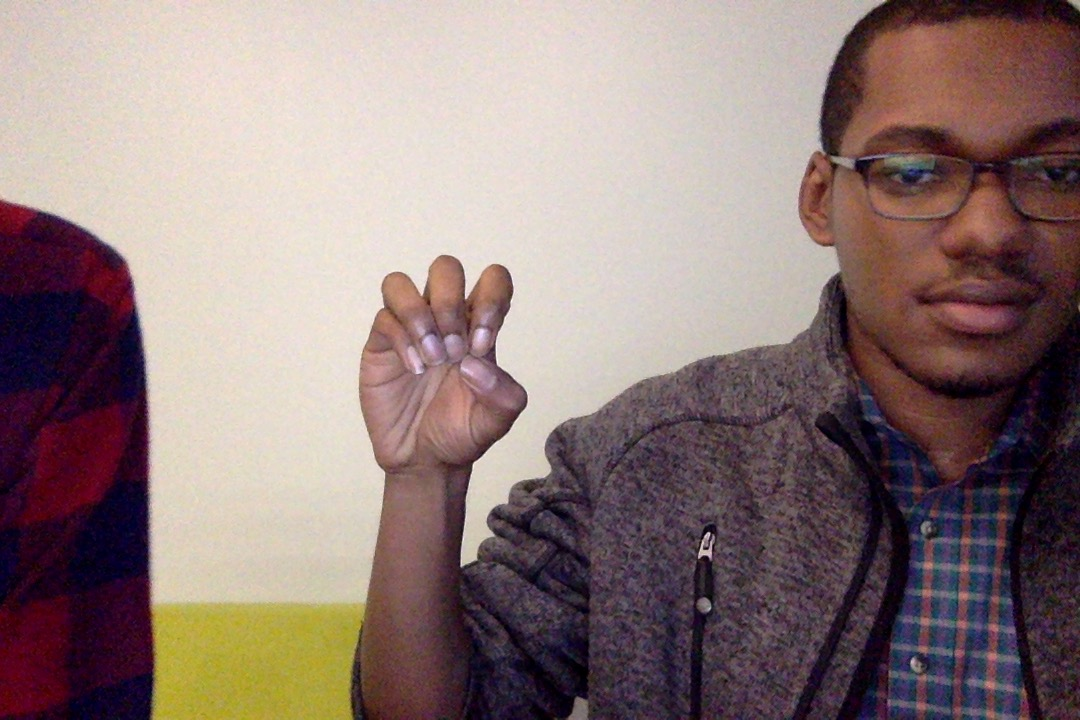e: (344, 243, 546, 484)
